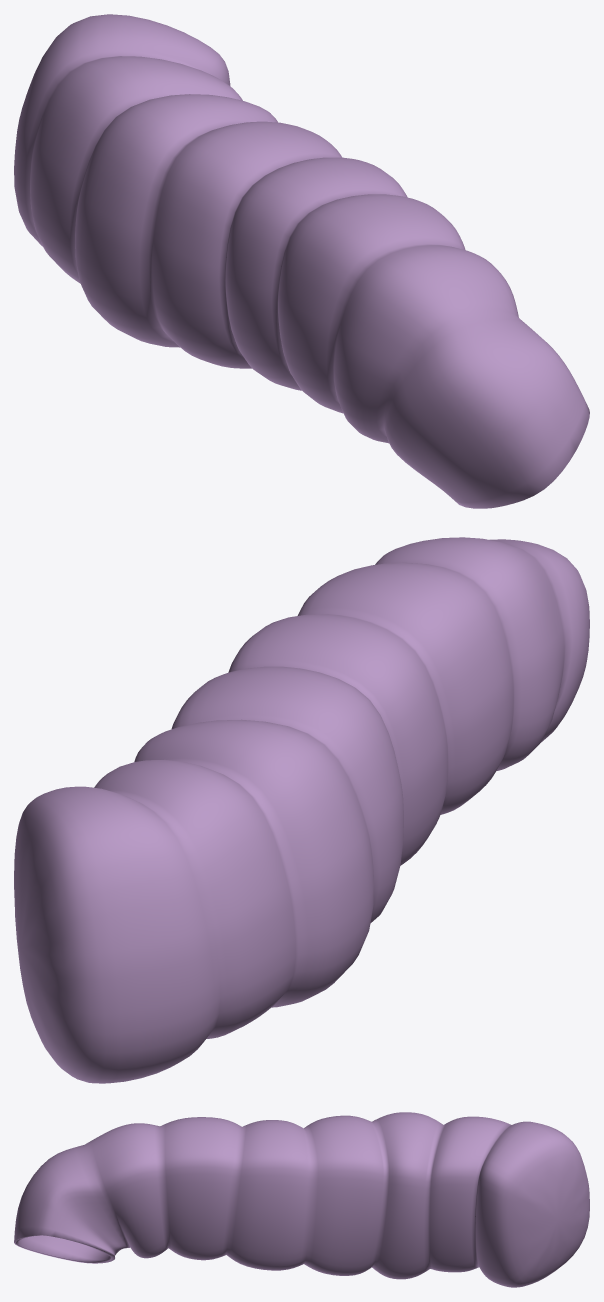
The picture shows the model from 3 angles, top to bottom: view 1: azimuth 30°, elevation 25°; view 2: azimuth 150°, elevation 25°; view 3: azimuth 270°, elevation 25°; orthographic projection. The views are drawn at different scales.
Visible parts, largest first — view 1: 升结肠; view 2: 升结肠; view 3: 升结肠.
Part boxes in pixels (box(x1,y1,x2,y2)): 升结肠: box(14, 14, 589, 508); 升结肠: box(14, 537, 589, 1083); 升结肠: box(14, 1112, 589, 1287).
Bounding box in the file's own units: 0.0759 × 0.0827 × 0.2835.
